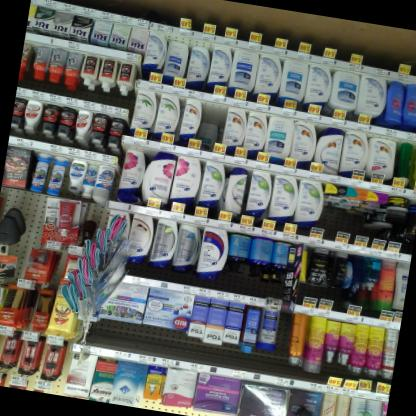empty_space: (269, 310, 292, 377), (196, 102, 226, 152)
